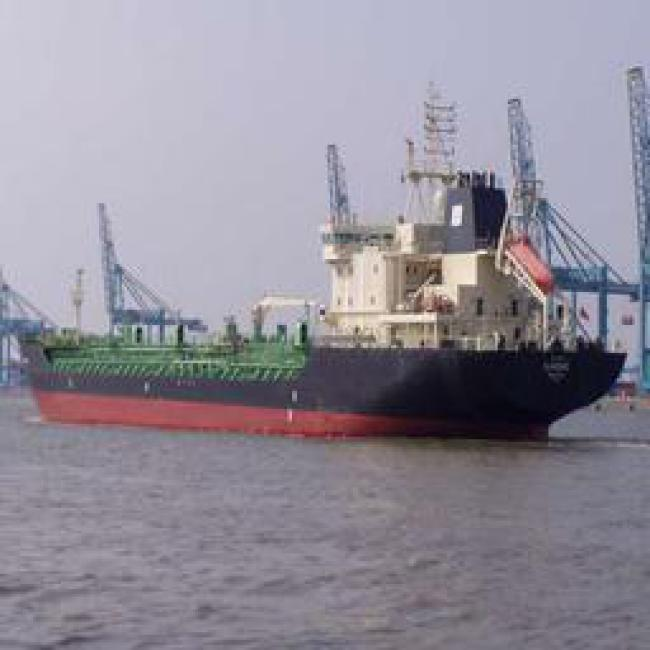Ship: (8, 249, 635, 461)
